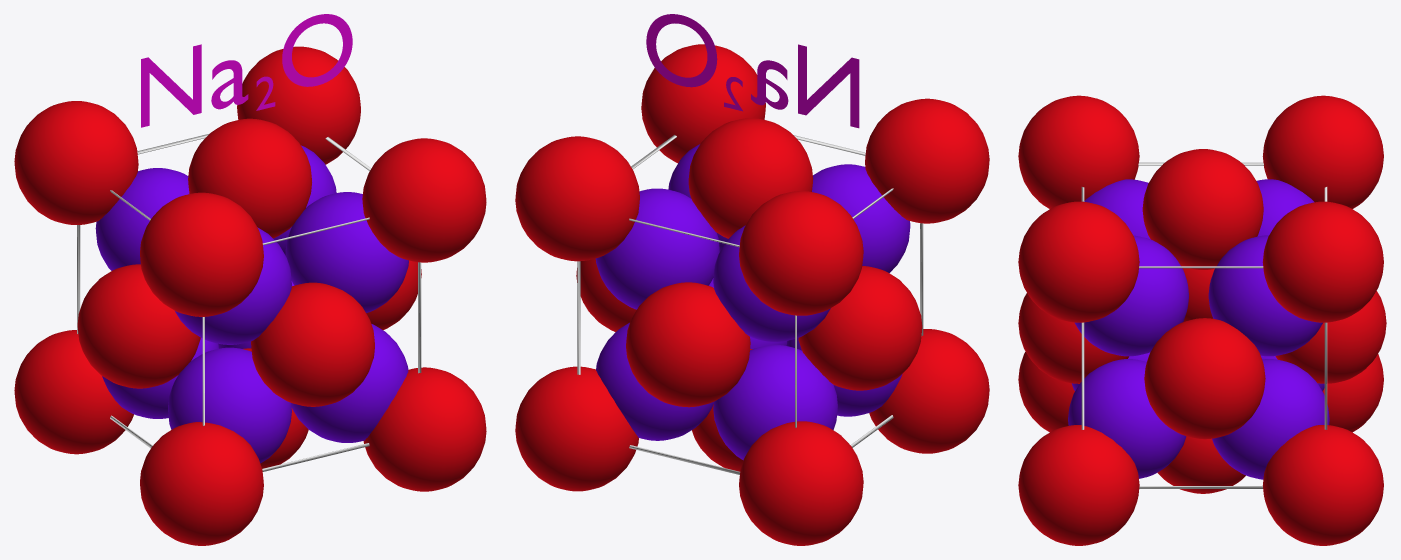
The picture shows the model from 3 angles, left to right: view 1: azimuth 30°, elevation 25°; view 2: azimuth 150°, elevation 25°; view 3: azimuth 270°, elevation 25°; orthographic projection. The views are drawn at different scales.
Parts seen in each view (by area): view 1: Sphere.001, Sphere, Sphere.003, Sphere.005, Sphere.008, Sphere.002, Sphere.011, Sphere.012, Sphere.007, Sphere.014, Sphere.004, Sphere.020 (+9 smaller); view 2: Sphere.005, Sphere.004, Sphere.007, Sphere.001, Sphere.010, Sphere.006, Sphere.011, Sphere.012, Sphere.003, Sphere.015, Sphere, Sphere.021 (+9 smaller); view 3: Sphere.004, Sphere, Sphere.009, Sphere.006, Sphere.002, Sphere.012, Sphere.005, Sphere.001, Sphere.016, Sphere.015, Sphere.014, Sphere.017 (+9 smaller).
Part boxes in pixels (bbox=[...]): Sphere.001: bbox=[140, 192, 263, 316]; Sphere: bbox=[362, 138, 486, 262]; Sphere.003: bbox=[140, 422, 263, 545]; Sphere.005: bbox=[14, 101, 138, 224]; Sphere.008: bbox=[251, 282, 374, 406]; Sphere.002: bbox=[363, 367, 486, 491]; Sphere.011: bbox=[77, 264, 200, 388]; Sphere.012: bbox=[188, 118, 311, 238]; Sphere.007: bbox=[14, 330, 133, 454]; Sphere.014: bbox=[285, 192, 408, 312]; Sphere.004: bbox=[237, 46, 360, 164]; Sphere.020: bbox=[168, 347, 291, 463]; Sphere.005: bbox=[739, 191, 863, 315]; Sphere.004: bbox=[515, 136, 639, 261]; Sphere.007: bbox=[739, 421, 863, 545]; Sphere.001: bbox=[865, 98, 989, 223]; Sphere.010: bbox=[626, 282, 750, 407]; Sphere.006: bbox=[515, 366, 638, 491]; Sphere.011: bbox=[798, 266, 922, 390]; Sphere.012: bbox=[688, 118, 813, 238]; Sphere.003: bbox=[869, 329, 989, 453]; Sphere.015: bbox=[595, 188, 719, 309]; Sphere: bbox=[641, 44, 765, 163]; Sphere.021: bbox=[713, 345, 837, 460]; Sphere.004: bbox=[1262, 201, 1383, 322]; Sphere: bbox=[1018, 201, 1139, 322]; Sphere.009: bbox=[1144, 318, 1265, 439]; Sphere.006: bbox=[1262, 425, 1383, 545]; Sphere.002: bbox=[1018, 425, 1139, 545]; Sphere.012: bbox=[1142, 149, 1263, 269]; Sphere.005: bbox=[1262, 95, 1383, 208]; Sphere.001: bbox=[1018, 95, 1139, 208]; Sphere.016: bbox=[1068, 359, 1186, 478]; Sphere.015: bbox=[1208, 235, 1322, 356]; Sphere.014: bbox=[1074, 235, 1188, 356]; Sphere.017: bbox=[1212, 359, 1329, 479].
Size of the model in its own units: 3.43 by 4.31 by 3.4.
